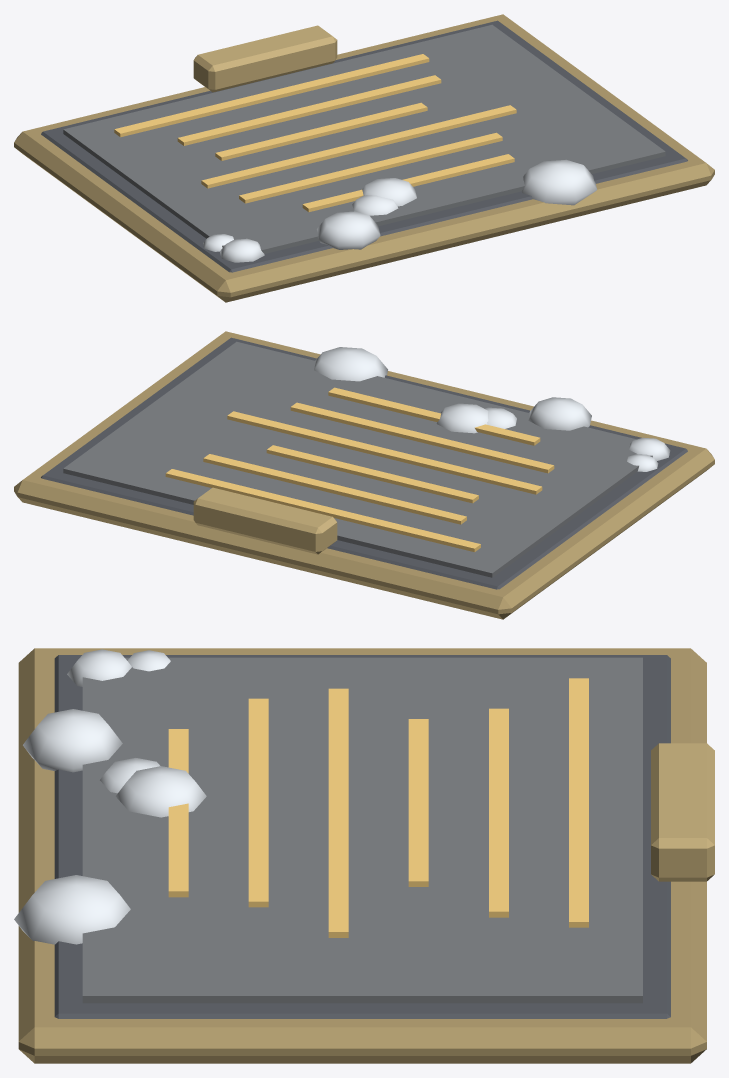
File: restorer_slate.glb
3 views of the same model, one above another, from view 1: azimuth 30°, elevation 25°; view 2: azimuth 150°, elevation 25°; view 3: azimuth 270°, elevation 25° (orthographic). The views are drawn at different scales.
Parts seen in each view (by area): view 1: rs_frost*0.25, rs_brass*0.8, rs_dark, rs_brass, glow.003, glow, glow.001, glow.004, rs_frost.003, glow.002, rs_frost.004, glow.005 (+3 smaller); view 2: rs_frost*0.25, rs_brass*0.8, rs_dark, rs_brass, glow.003, glow, glow.004, glow.001, glow.002, rs_frost.003, glow.005, rs_frost.004 (+3 smaller); view 3: rs_frost*0.25, rs_brass*0.8, rs_dark, rs_brass, rs_frost.003, glow.003, glow, rs_frost.004, glow.004, glow.001, glow.002, rs_frost.001 (+4 smaller).
Boxes of the visible parts, <box> form: rs_frost*0.25: <box>63,24,665,253</box>; rs_brass*0.8: <box>14,14,714,302</box>; rs_dark: <box>41,20,687,272</box>; rs_brass: <box>193,25,337,92</box>; glow.003: <box>201,105,516,188</box>; glow: <box>114,54,429,137</box>; glow.001: <box>177,75,441,145</box>; glow.004: <box>239,132,502,203</box>; rs_frost.003: <box>521,159,597,205</box>; glow.002: <box>215,102,427,160</box>; rs_frost.004: <box>317,211,380,249</box>; glow.005: <box>302,154,514,212</box>; rs_frost*0.25: <box>63,341,652,577</box>; rs_brass*0.8: <box>14,331,714,619</box>; rs_dark: <box>41,337,687,589</box>; rs_brass: <box>193,487,337,554</box>; glow.003: <box>227,411,542,494</box>; glow: <box>165,469,480,552</box>; glow.004: <box>290,402,554,473</box>; glow.001: <box>203,454,466,524</box>; glow.002: <box>266,445,478,503</box>; rs_frost.003: <box>314,347,387,381</box>; glow.005: <box>328,387,540,445</box>; rs_frost.004: <box>528,397,591,430</box>; rs_frost*0.25: <box>82,657,642,1003</box>; rs_brass*0.8: <box>18,648,706,1063</box>; rs_dark: <box>54,655,670,1018</box>; rs_brass: <box>651,743,714,881</box>; rs_frost.003: <box>14,875,130,944</box>; glow.003: <box>328,688,348,937</box>; glow: <box>569,678,588,927</box>; rs_frost.004: <box>23,709,122,772</box>; glow.004: <box>248,698,268,907</box>; glow.001: <box>489,708,508,917</box>; glow.002: <box>408,719,428,886</box>; rs_frost.001: <box>115,766,206,817</box>.
Size of the model in its own units: 1.16 by 0.12 by 0.8757.
